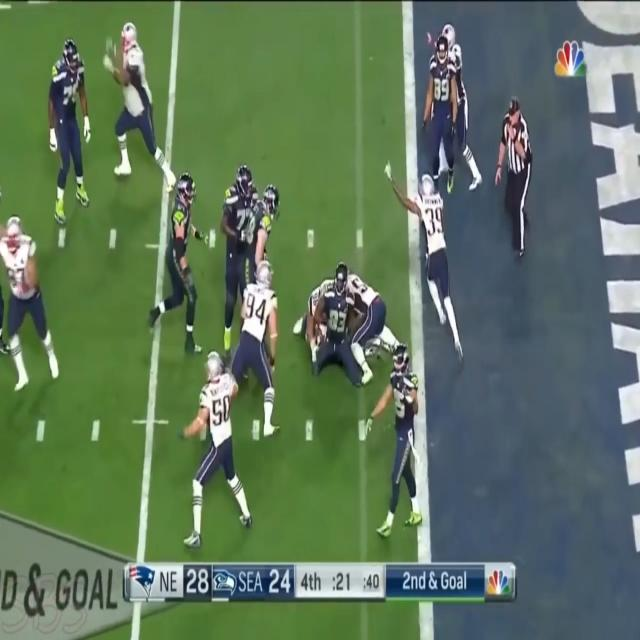players: (184, 340, 260, 546), (388, 154, 460, 345), (148, 165, 213, 368), (304, 265, 399, 391), (370, 343, 423, 546), (0, 218, 60, 396), (218, 176, 270, 370), (109, 26, 171, 183), (422, 32, 473, 202), (48, 42, 94, 224), (233, 251, 276, 428)
